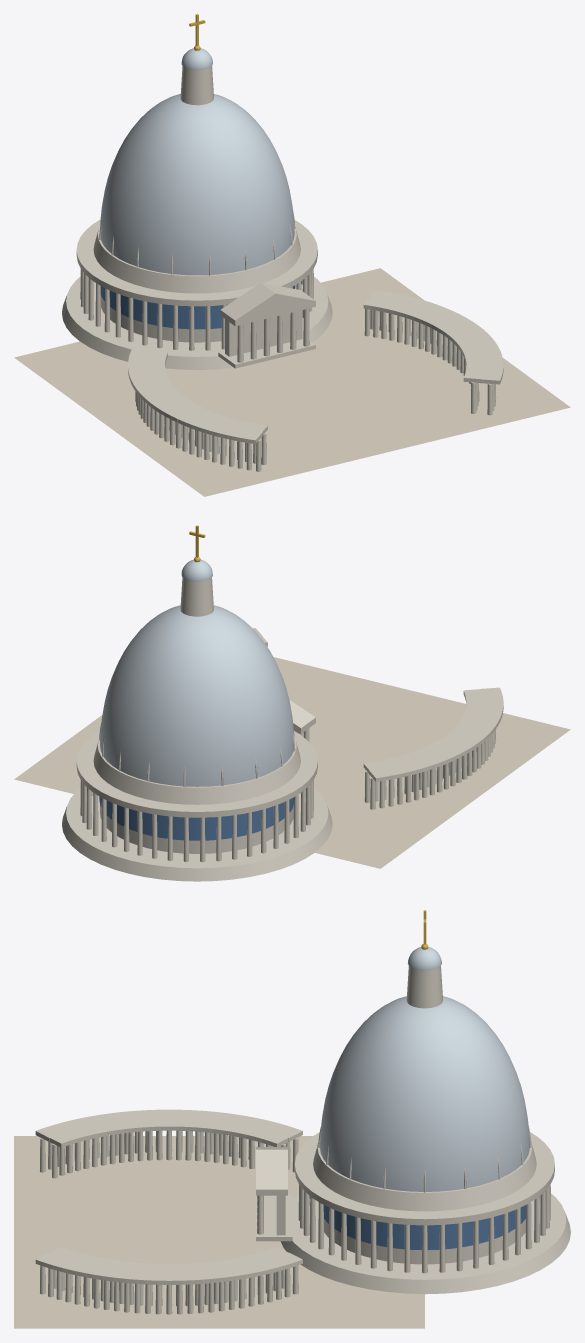
File: yakro-basilique.glb
3 views of the same model, one above another, from view 1: azimuth 30°, elevation 25°; view 2: azimuth 150°, elevation 25°; view 3: azimuth 270°, elevation 25° (orthographic). The views are drawn at different scales.
Size of the model in its own units: 200 by 156 by 244.
